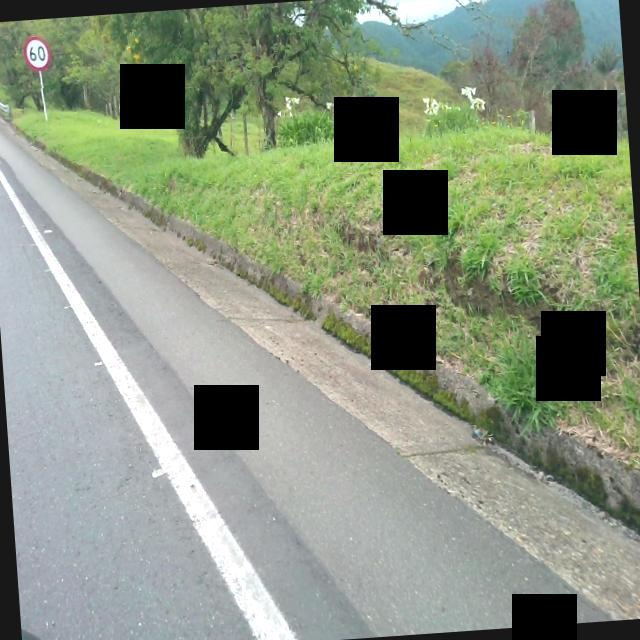DITCH: (0, 47, 640, 640), (0, 58, 640, 640)
